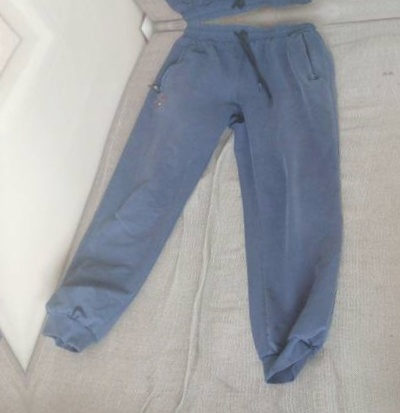Pants: (9, 17, 368, 389), (0, 0, 336, 33), (0, 50, 12, 413)
